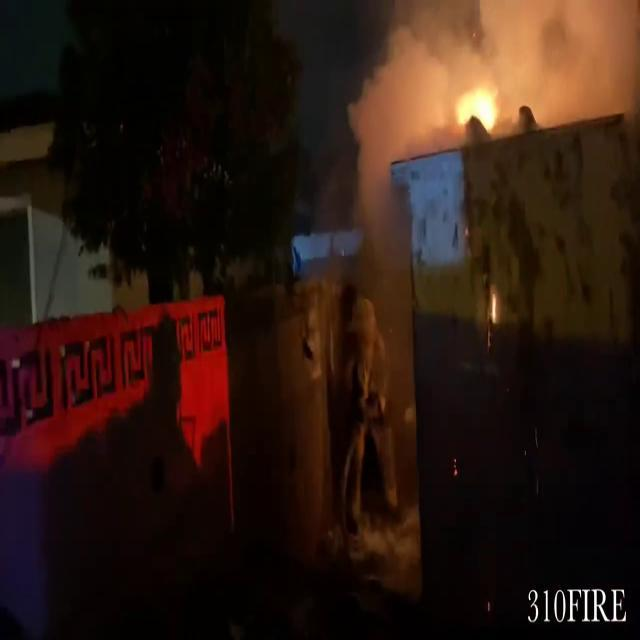Fire: (450, 71, 504, 141)
Smoke: (353, 0, 640, 188)
